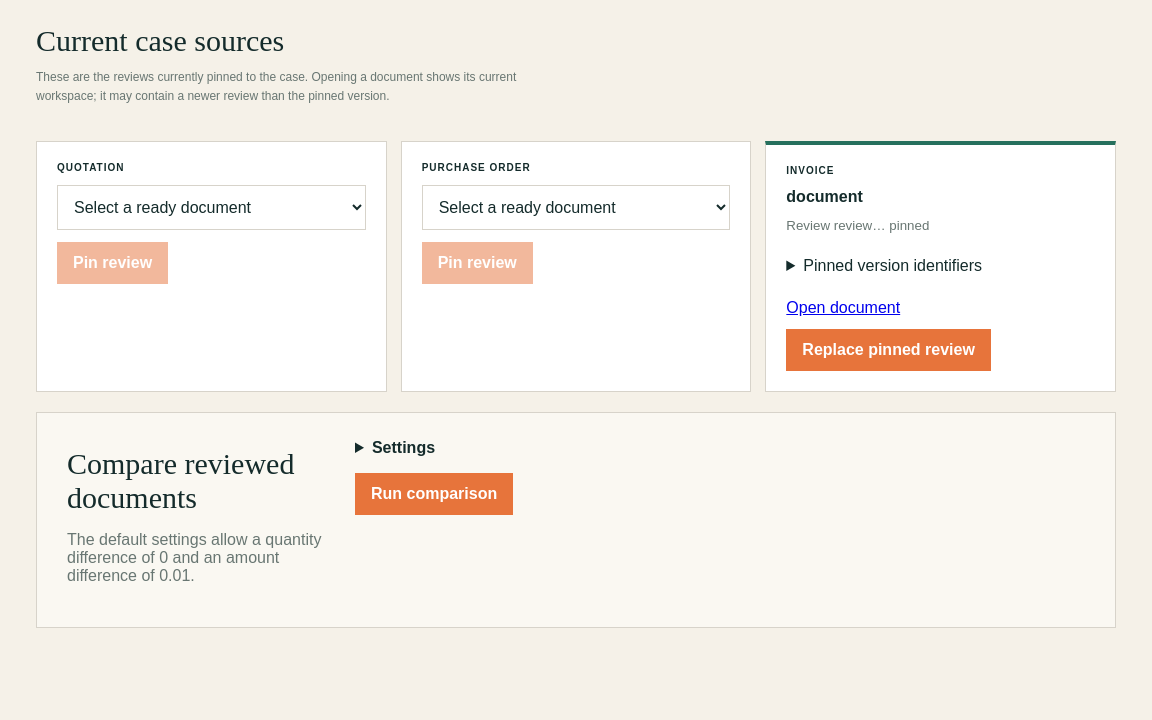
Test case: comparison settings disclosure › retains edited tolerances when settings are collapsed and sends them in the deliberate run
The image size is (1152, 720).
(page scrolled)
Expected: the button "Run comparison" is shown, [355,472,513,514]
Click the heading "Settings". click: (403, 447)
box: [372,438,435,456]
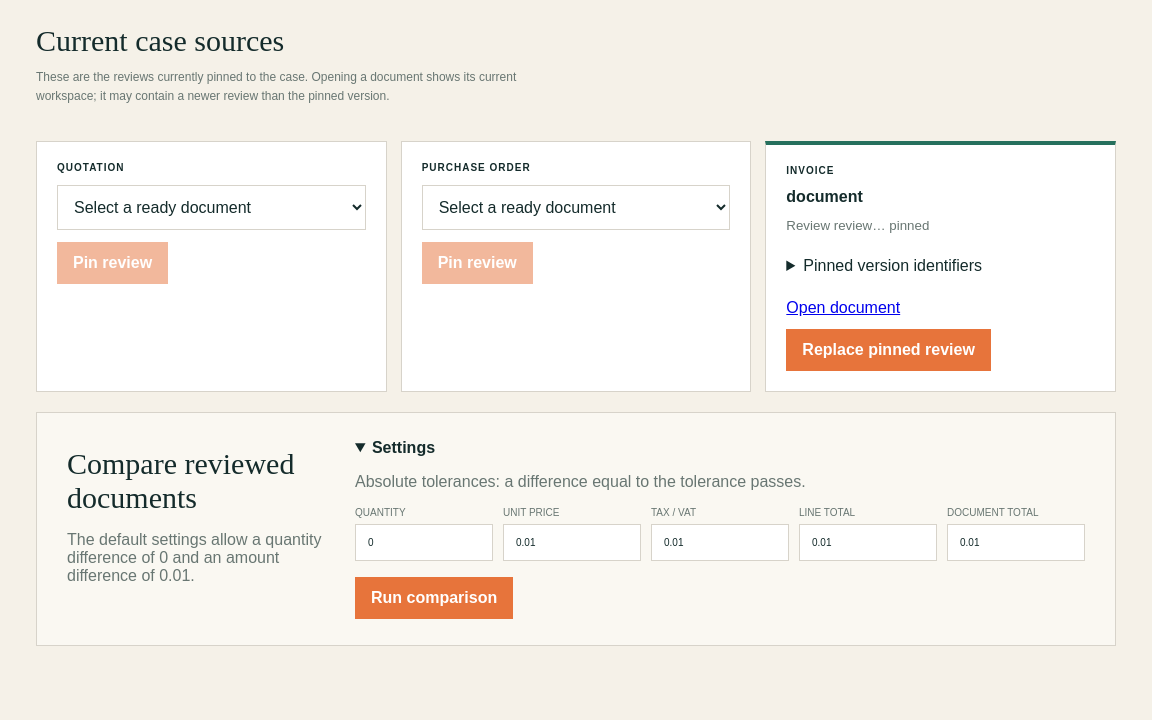
Replace the text in the number field labelled "Document total" with "1.25". click: (1016, 542)
box: [947,524,1085,560]
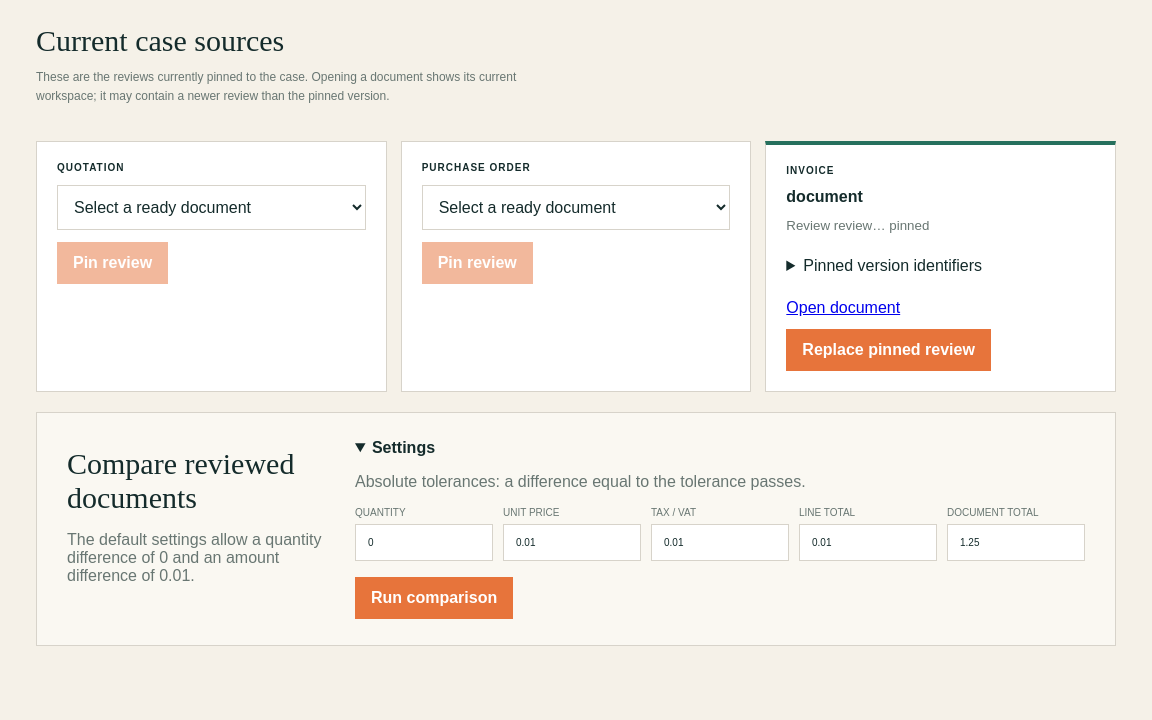
Click the heading "Settings". click: (403, 447)
box: [372,438,435,456]
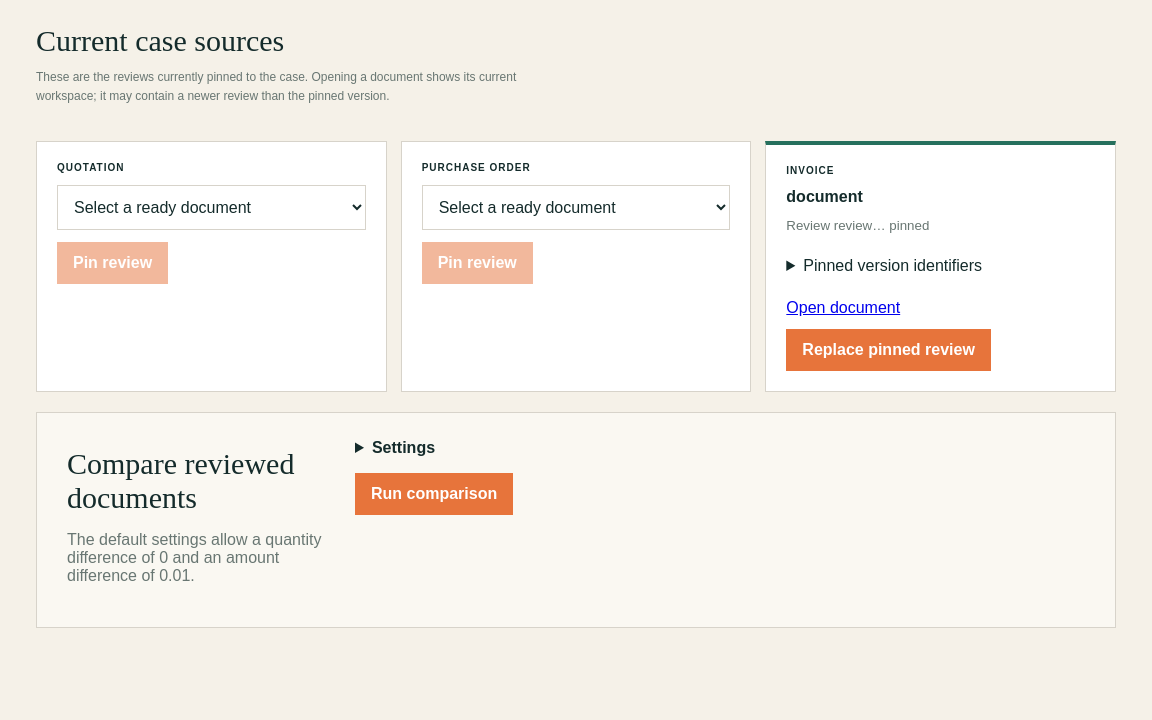
Submit the form "Run comparison", box [355,438,513,514]
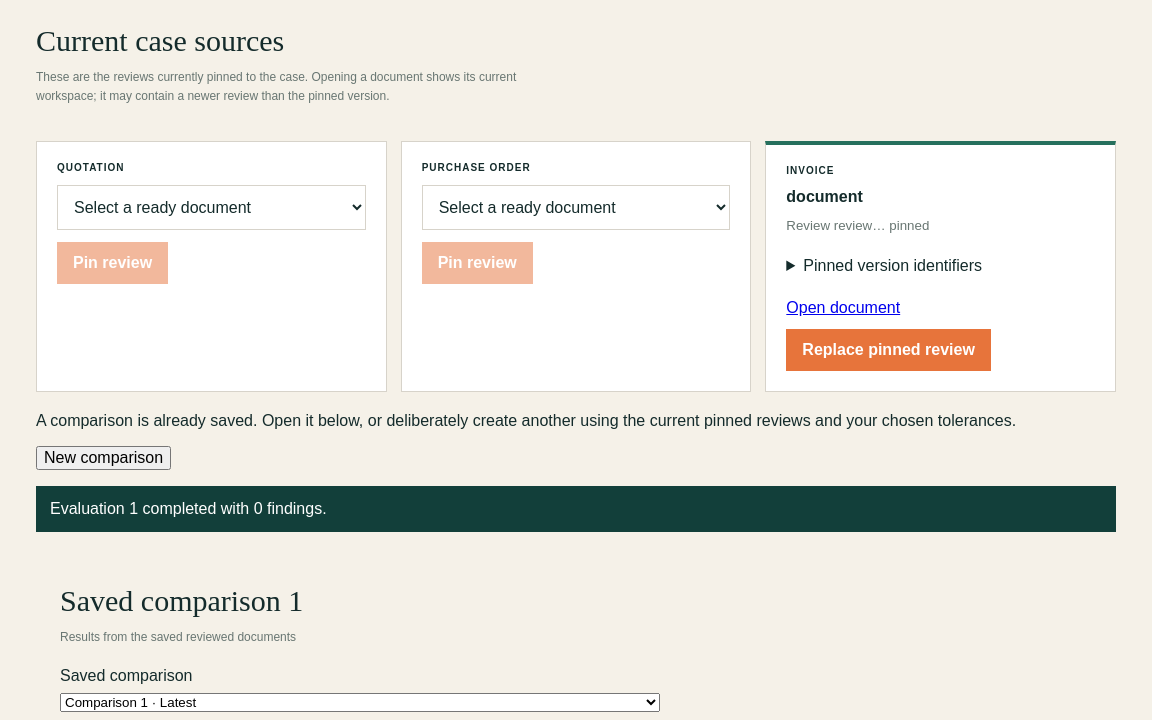
Expected: the text "Evaluation 1 completed with 0 findings." is shown, [36,486,1116,532]
